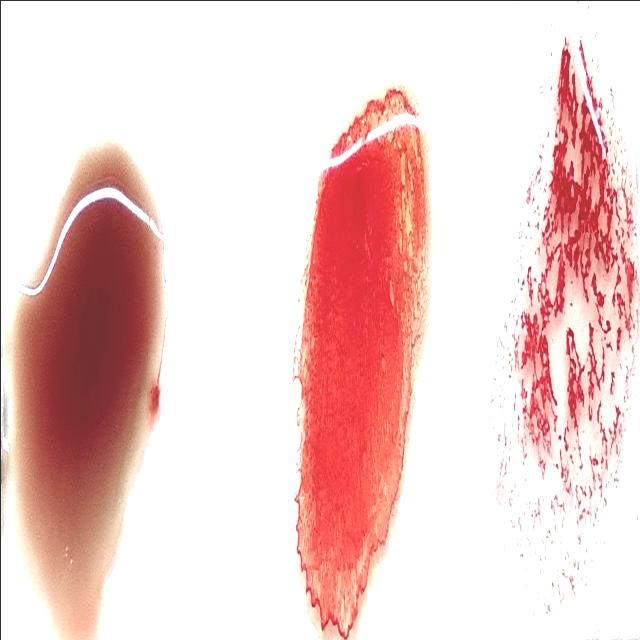B: (300, 107, 418, 603)
D: (511, 58, 631, 640)
